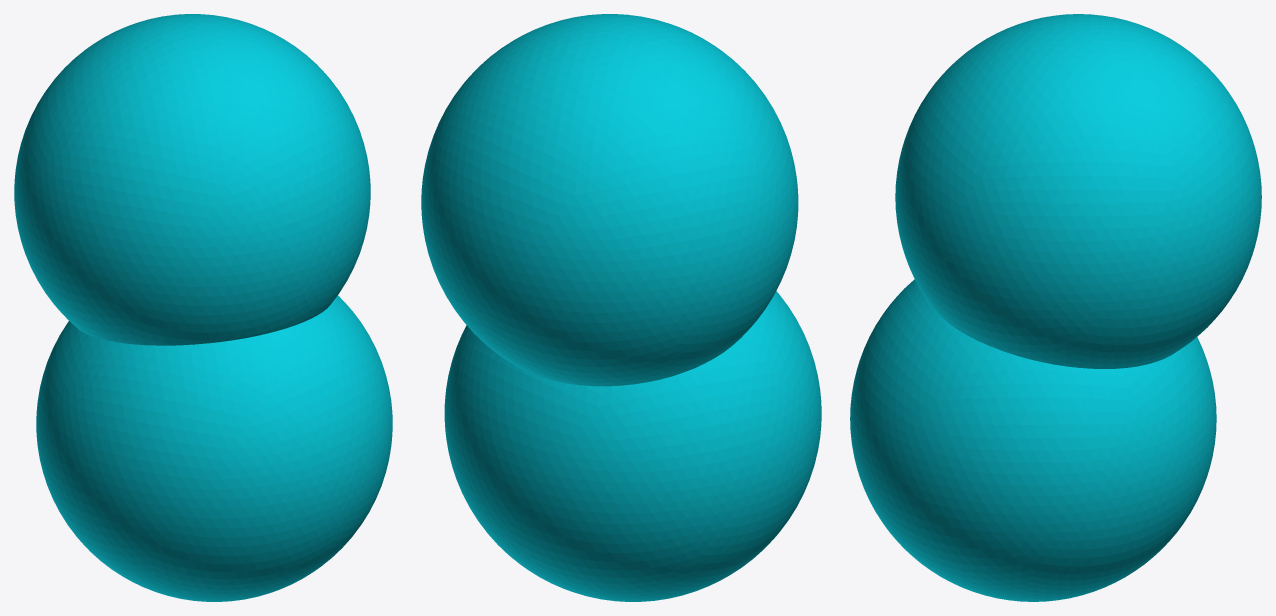
File: Oxygen.gltf
3 views of the same model, side by side, from view 1: azimuth 30°, elevation 25°; view 2: azimuth 150°, elevation 25°; view 3: azimuth 270°, elevation 25° (orthographic). The views are drawn at different scales.
Bounding box in the file's own units: 0.04 × 0.0667 × 0.0449.
